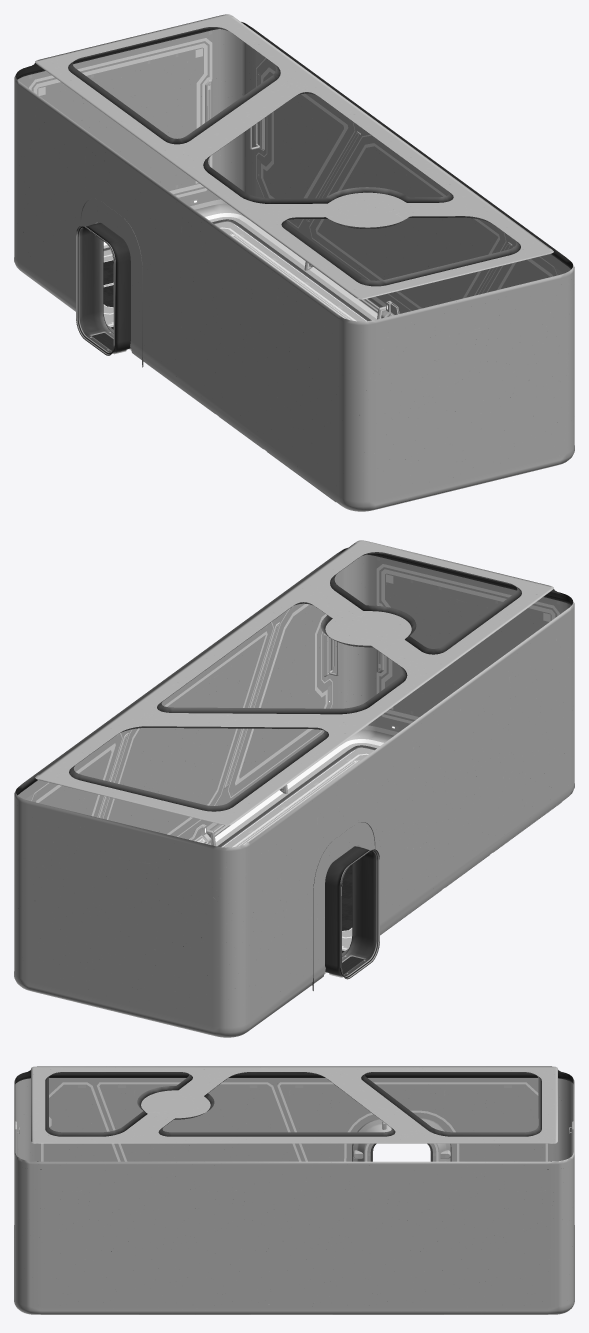
Rendered from SM_LivingModule_2_Indoor_Merged.fbx.
The picture shows the model from 3 angles, top to bottom: view 1: azimuth 30°, elevation 25°; view 2: azimuth 150°, elevation 25°; view 3: azimuth 270°, elevation 25°; orthographic projection. The views are drawn at different scales.
Visible parts, largest first — view 1: SM_LivingModule_2_Indoor_Merged_LOD0; view 2: SM_LivingModule_2_Indoor_Merged_LOD0; view 3: SM_LivingModule_2_Indoor_Merged_LOD0.
Part boxes in pixels (<box>): SM_LivingModule_2_Indoor_Merged_LOD0: <box>14,14,574,511</box>; SM_LivingModule_2_Indoor_Merged_LOD0: <box>14,540,574,1037</box>; SM_LivingModule_2_Indoor_Merged_LOD0: <box>14,1066,574,1314</box>.
Size of the model in its own units: 599 by 1448 by 487.
